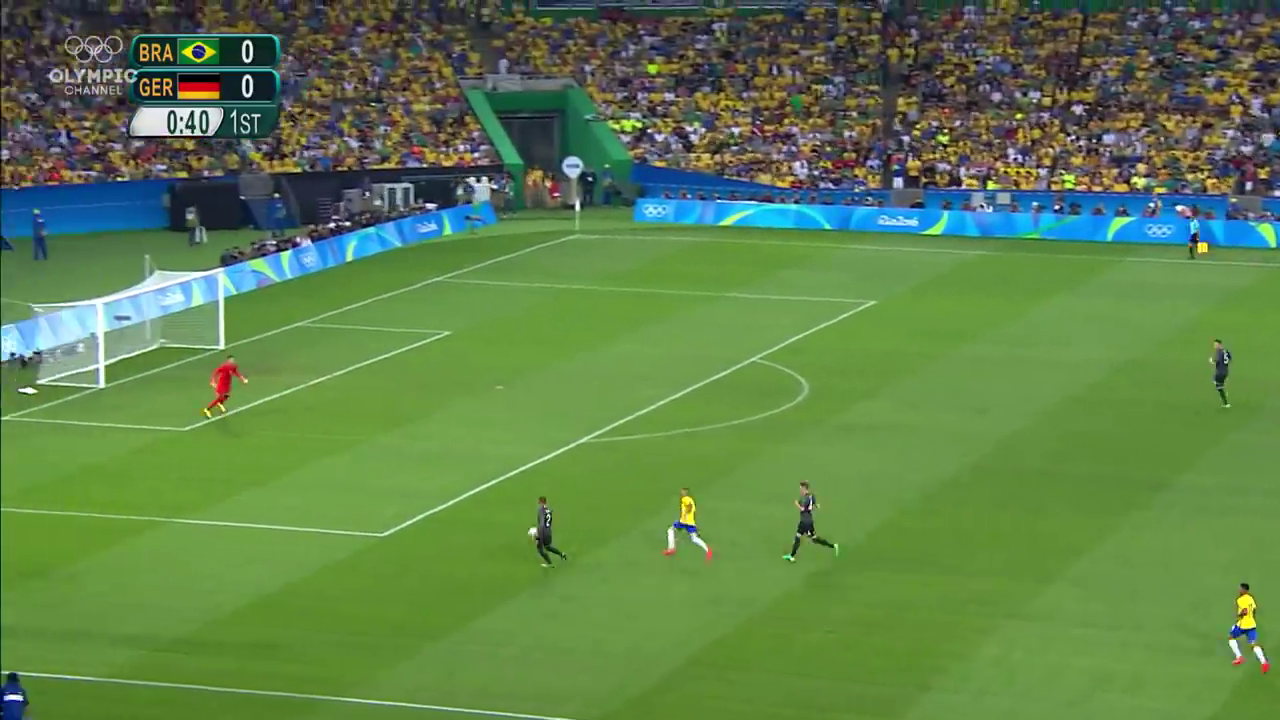ball: (528, 527, 539, 538)
player: (1224, 583, 1272, 672), (789, 480, 840, 561), (665, 486, 711, 564), (207, 354, 246, 421), (534, 498, 566, 569), (1206, 336, 1235, 410)
